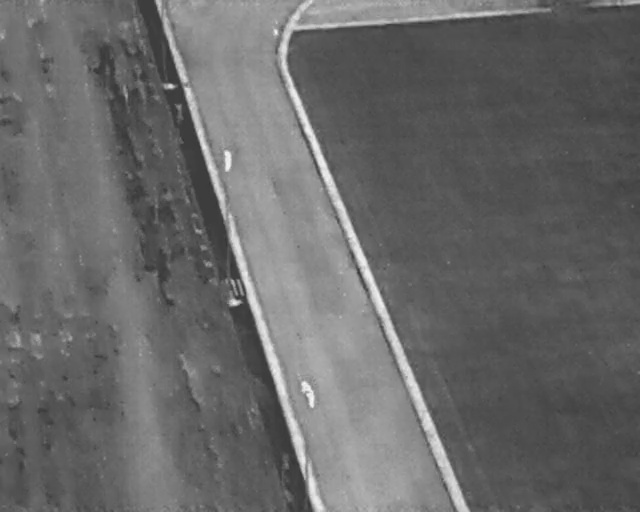Person: (296, 377, 320, 411), (221, 149, 232, 172)
